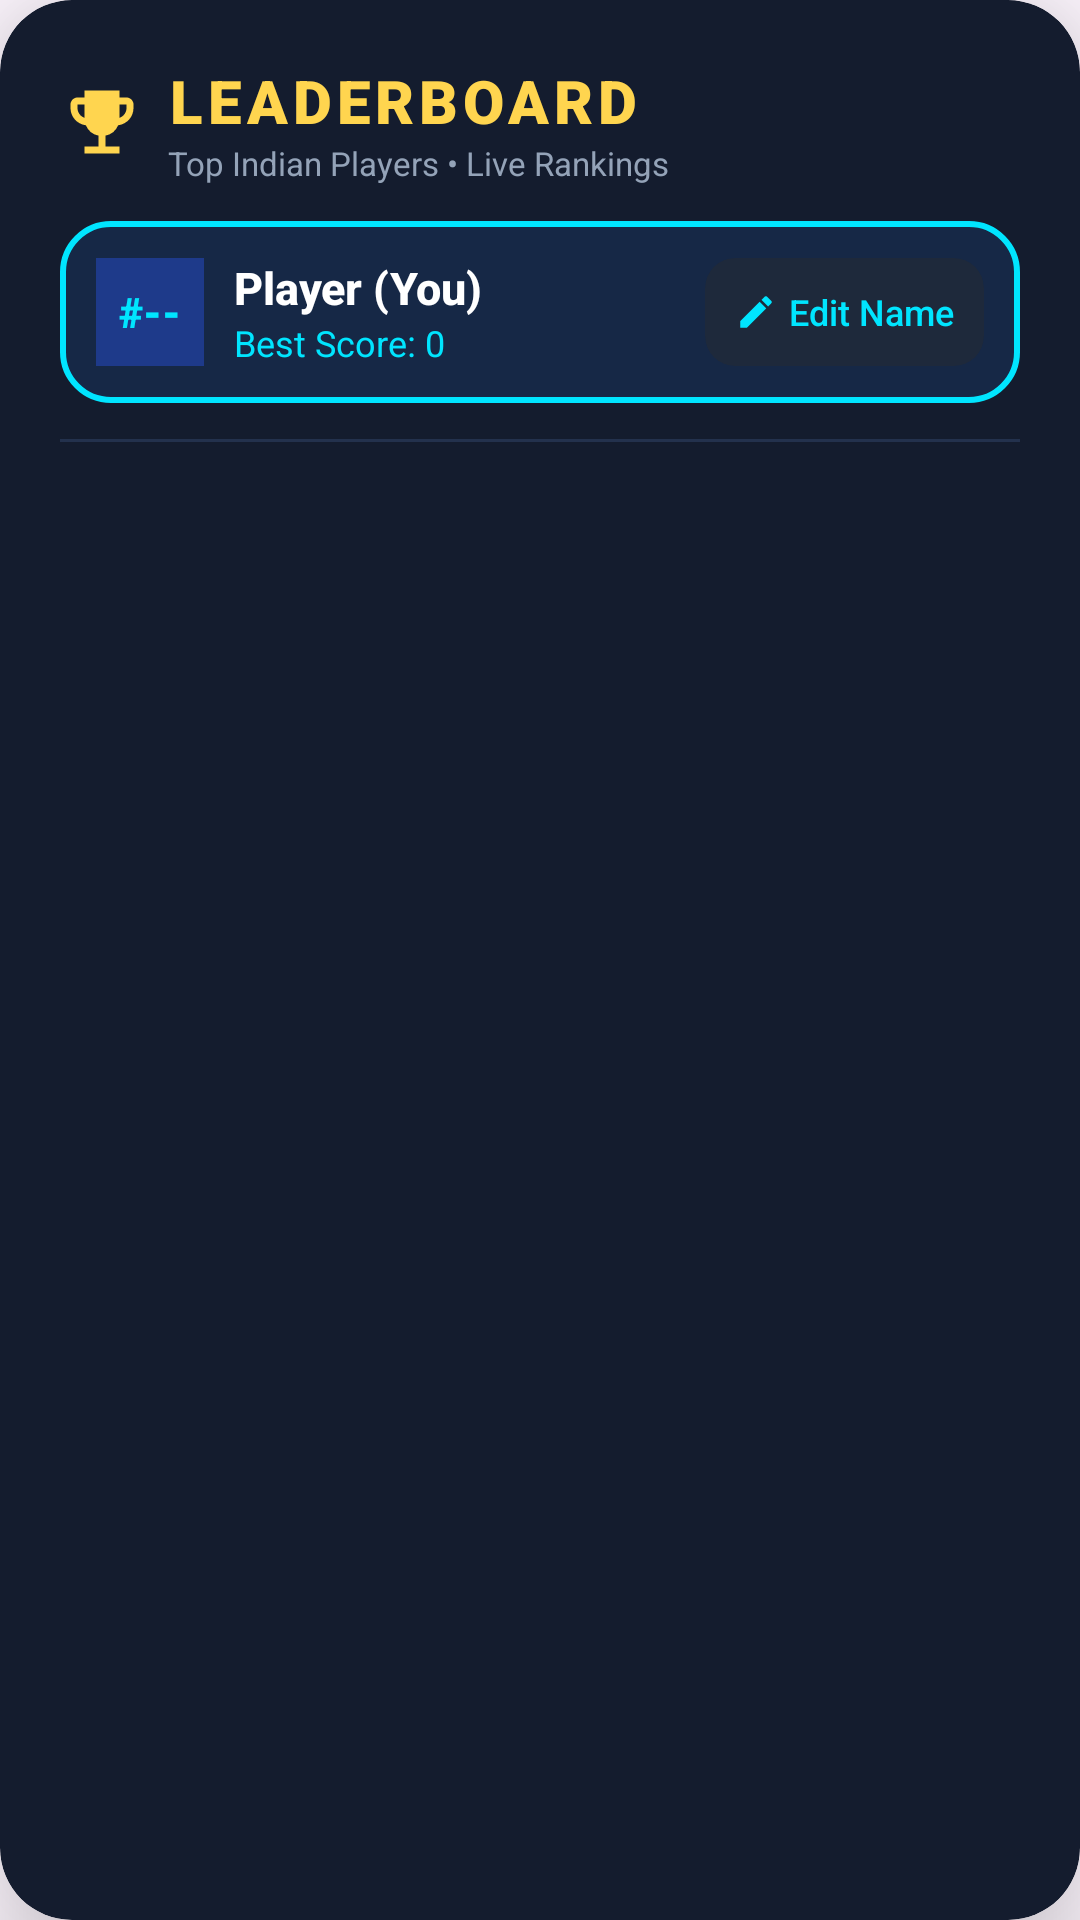

Icon bounding boxes for this 1080px x 1920px phone screenshot, format bbox=[x1, y1, x2, y2]:
trophy: bbox=[70, 90, 134, 154]
